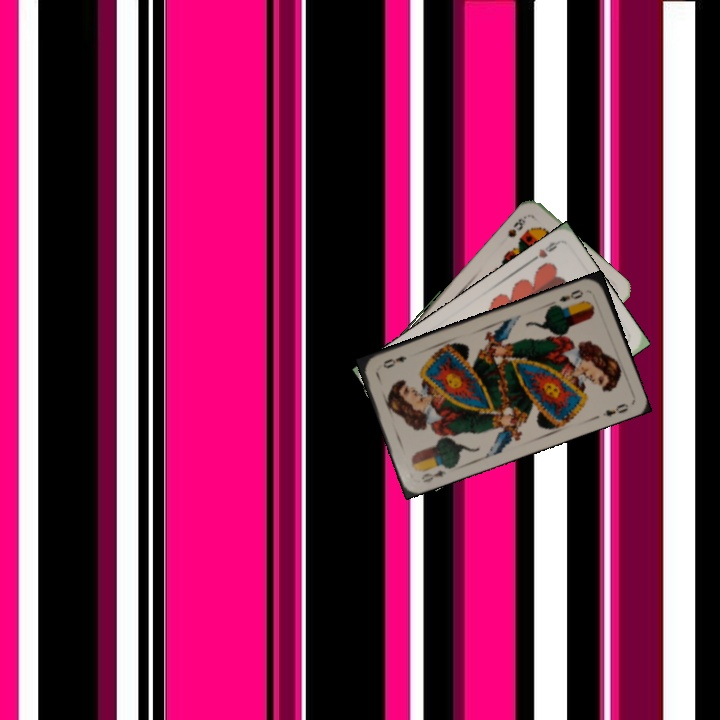EO: (417, 466, 448, 485), (555, 286, 586, 304)
H9: (525, 237, 560, 266)
S8: (504, 211, 529, 240)
